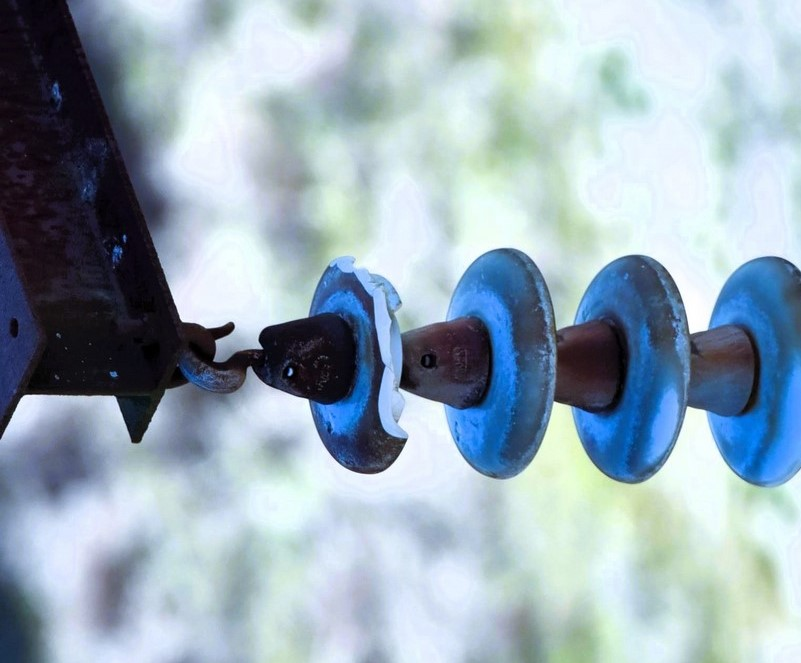insulator breakage: (309, 243, 427, 481)
